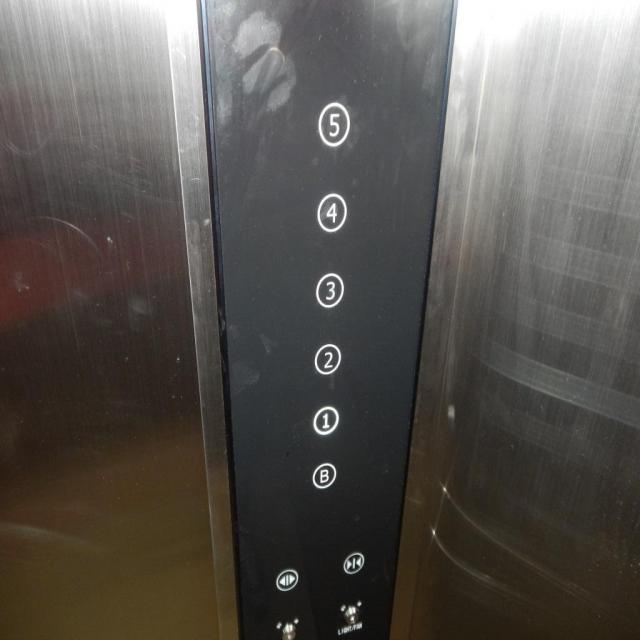1: (311, 400, 340, 438)
2: (312, 340, 342, 378)
3: (313, 268, 347, 310)
4: (314, 188, 349, 234)
5: (316, 98, 352, 148)
B: (310, 459, 338, 490)
close: (339, 546, 366, 578)
keyhole: (337, 598, 364, 630), (274, 616, 301, 639)
open: (273, 564, 301, 594)
